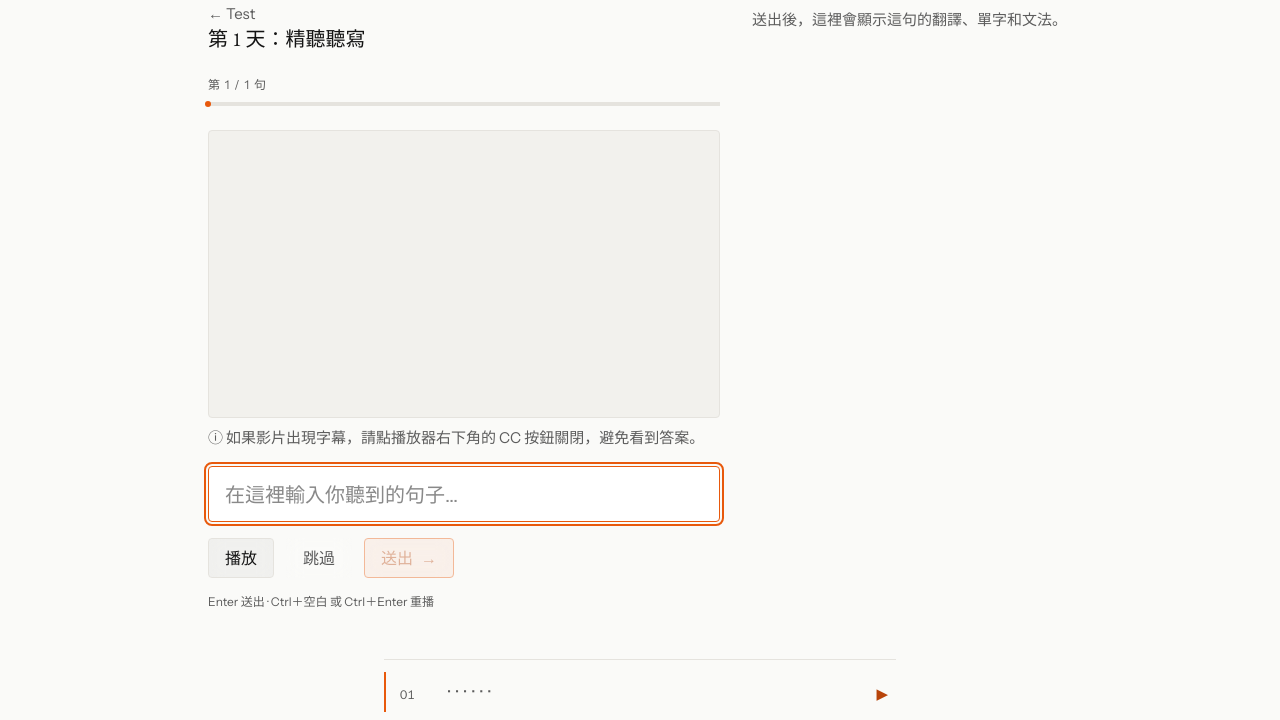
Test: with the aquarium feature off (M2.5 paused) › finishes practice without an “earned …” line
The image size is (1280, 720).
Type "go home" into the text box labelled "你聽到的句子". click: (464, 494)
box: 208,466 -> 720,522
Then press Enter
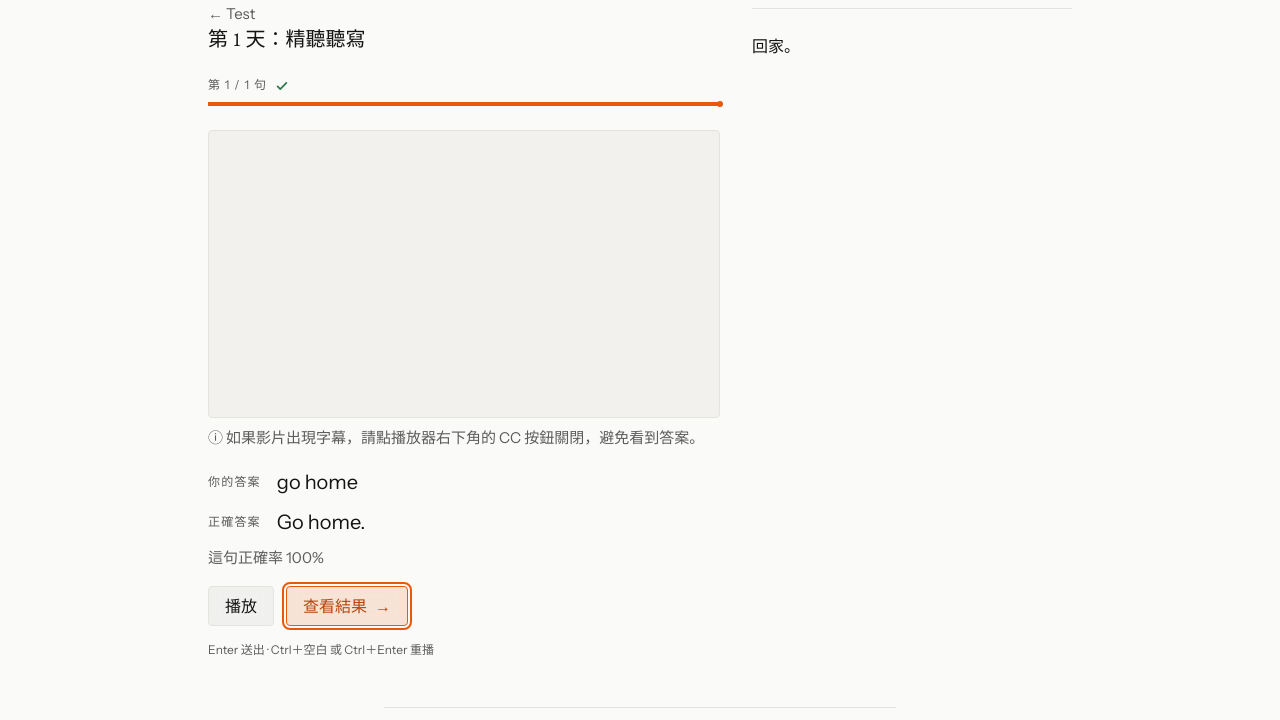
Press Enter
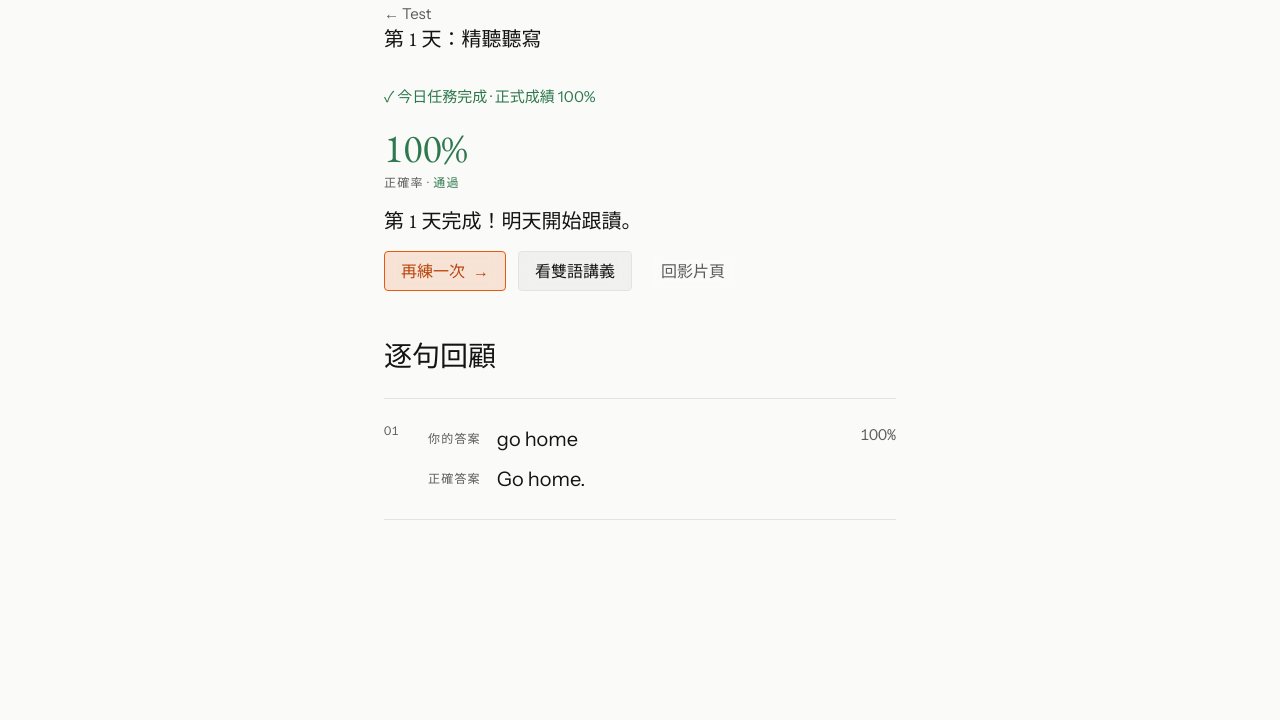
Check: the text "第 1 天完成！明天開始跟讀。" is shown, box 384,208 -> 642,234
